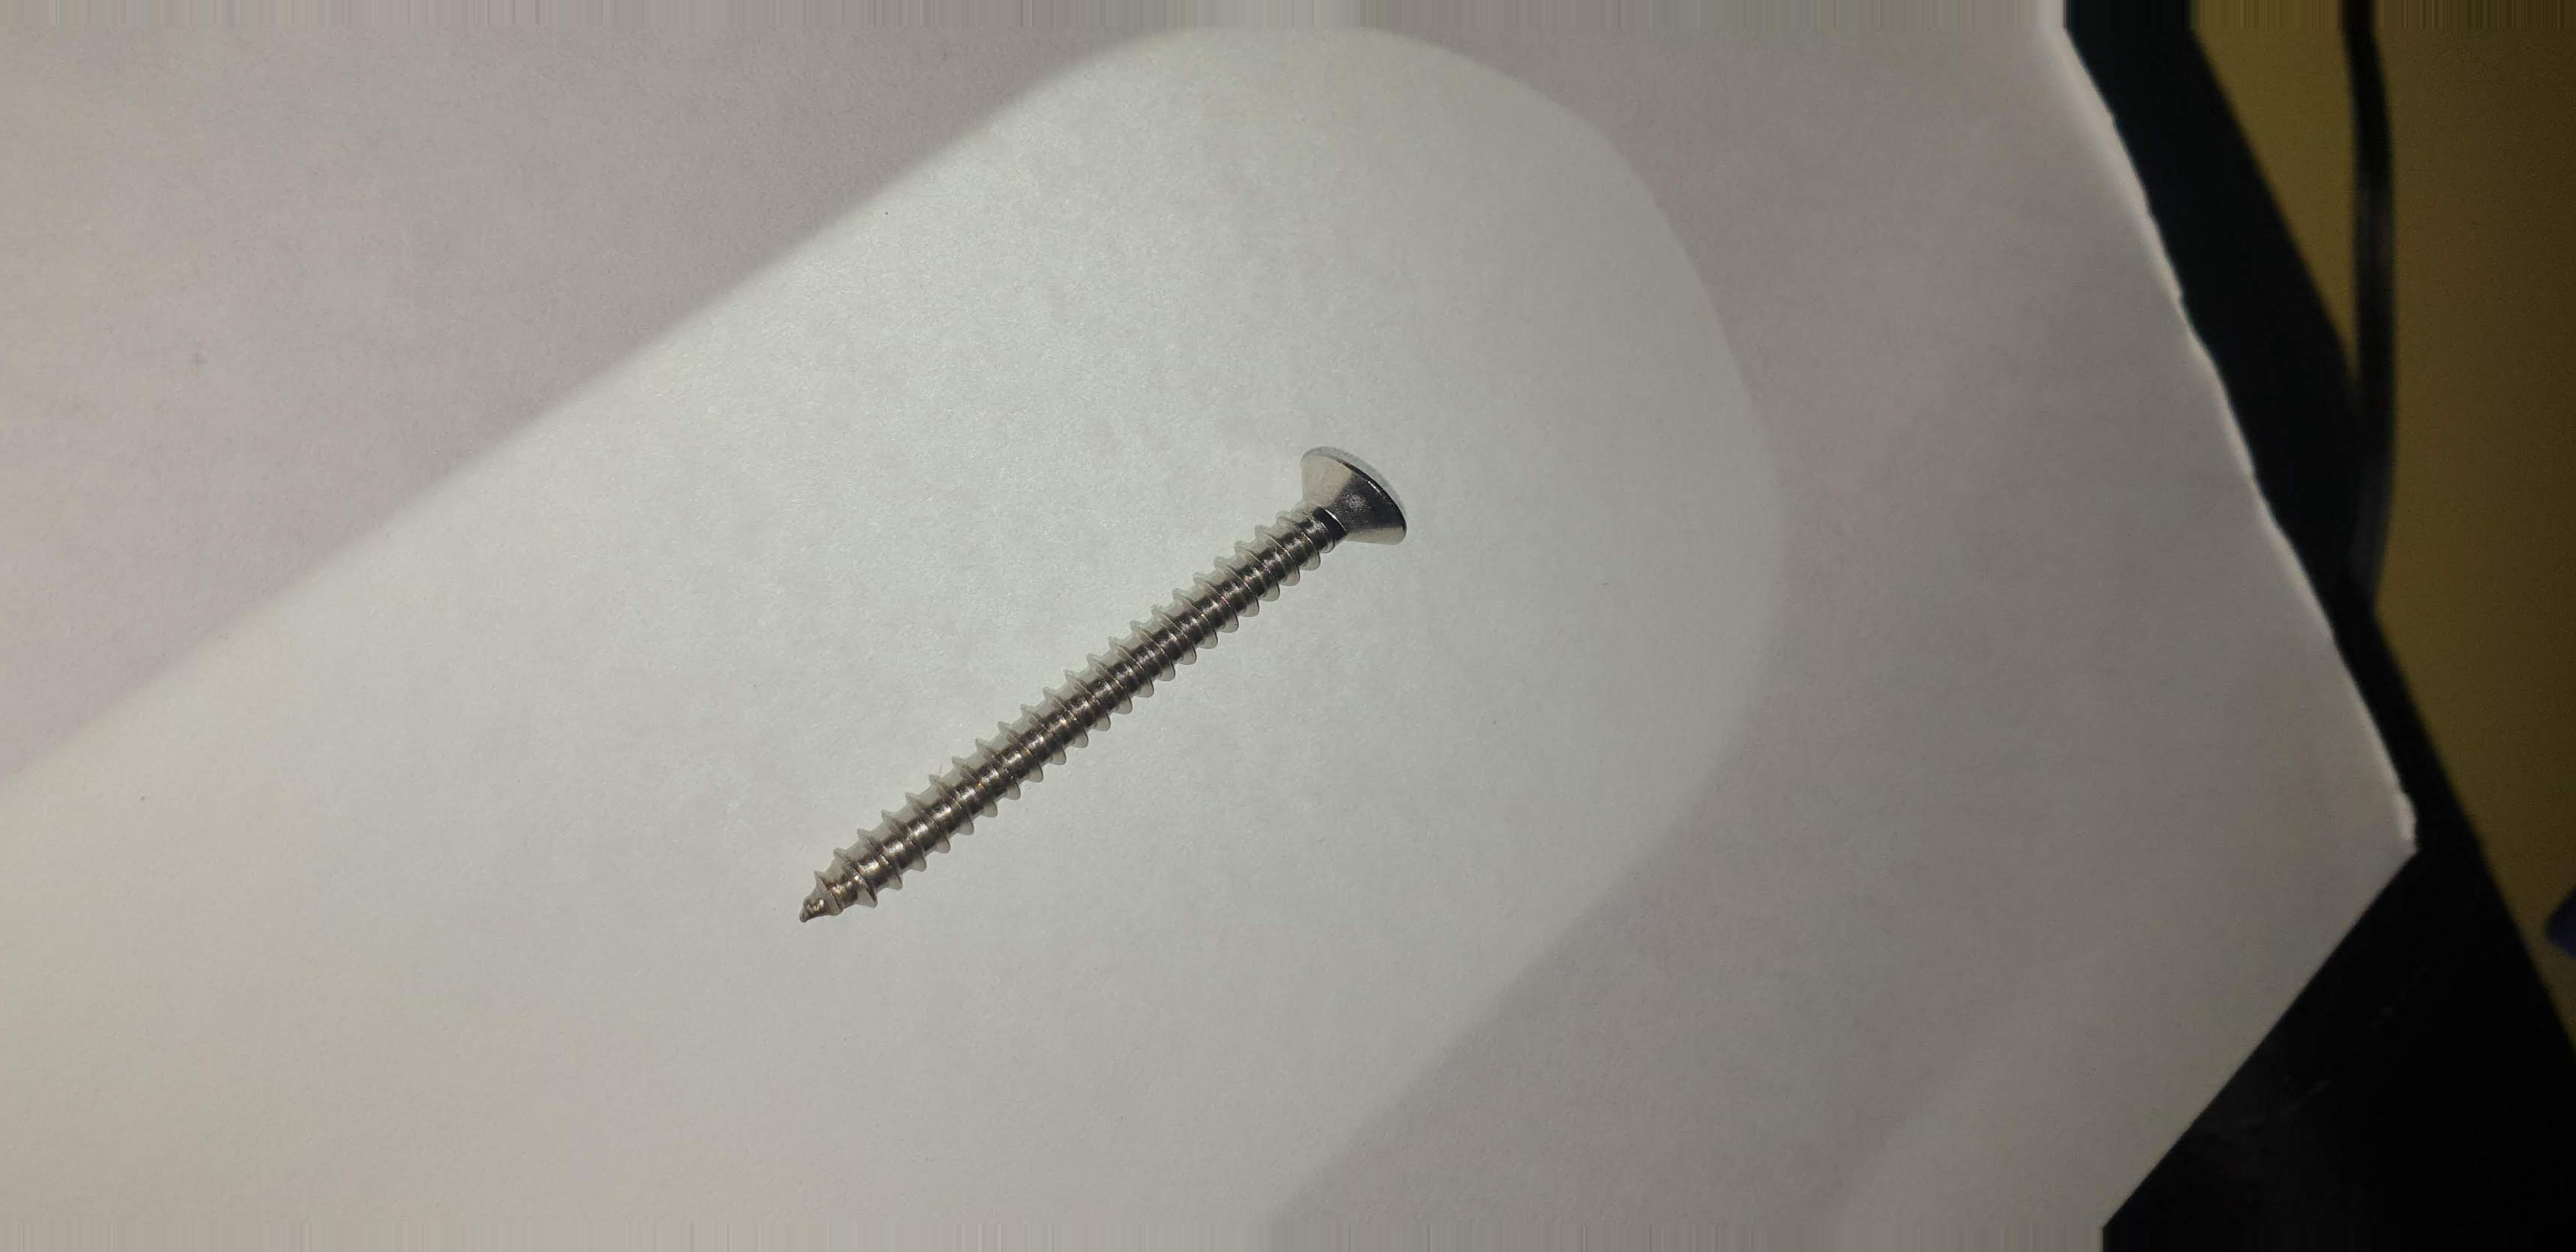fastener: (664, 358, 1511, 996)
